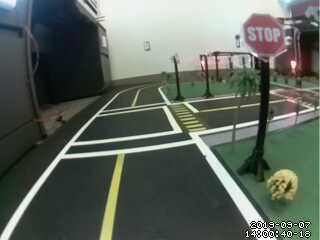Stop_Sign: (240, 15, 291, 60)
